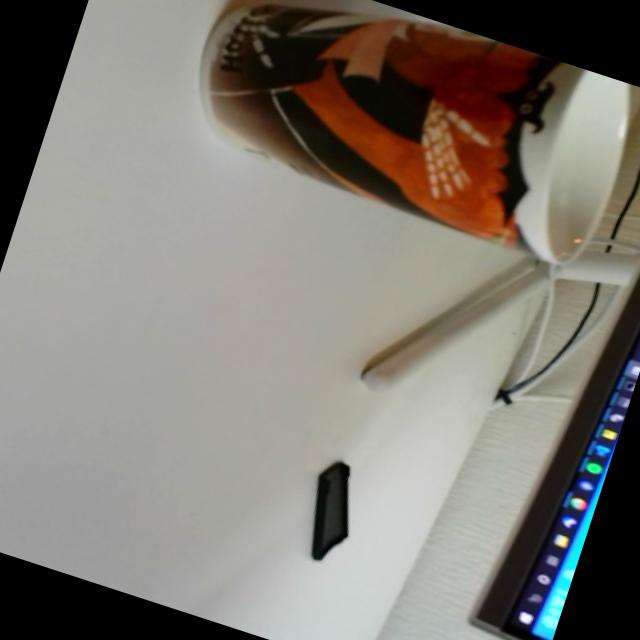Halloween cup: (188, 0, 640, 279)
